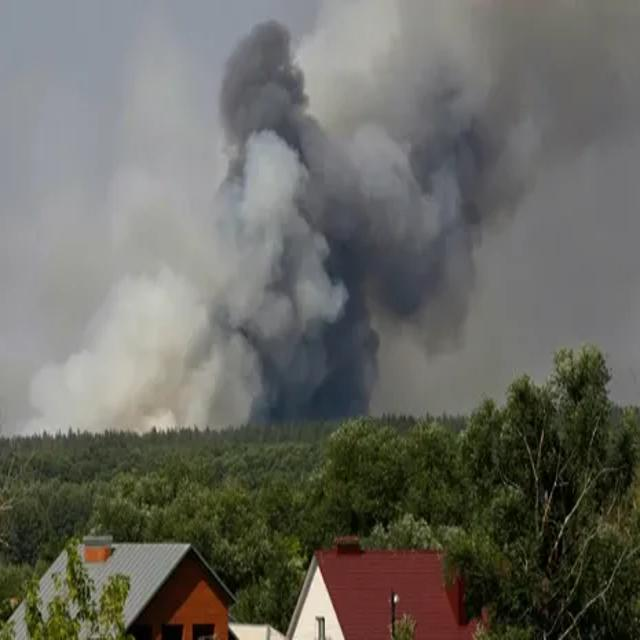Smoke: (193, 19, 511, 414)
